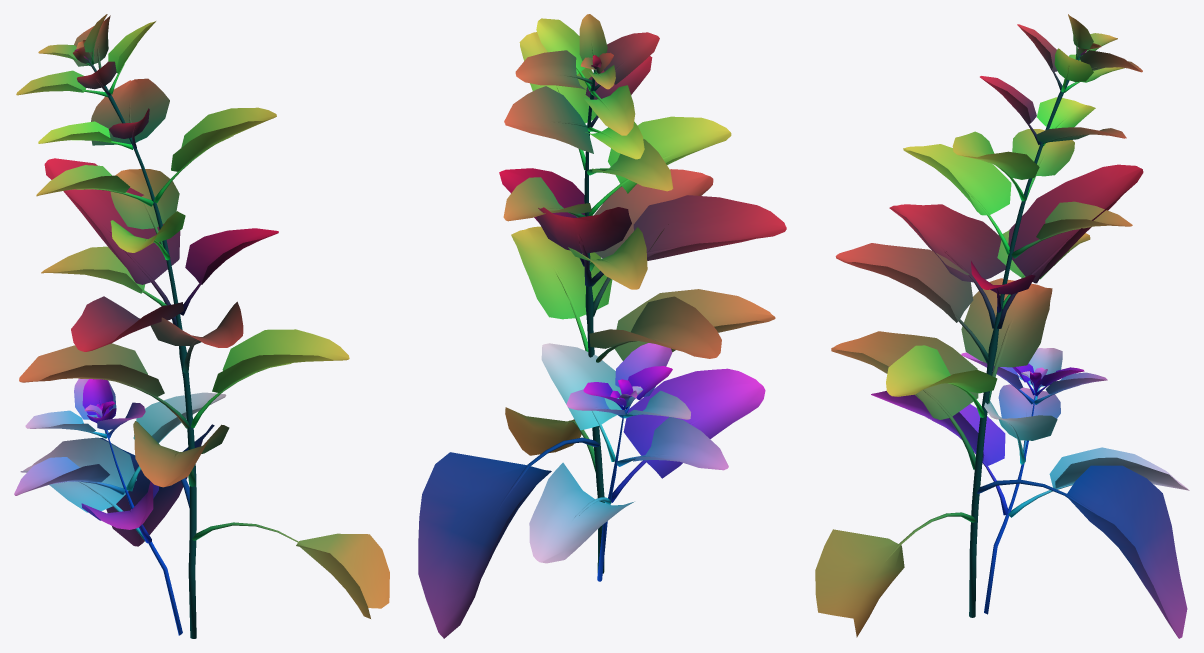
Rendered from Lemon_Balm_umslacdia_Mid_umslacdia_VarF_LOD0.fbx.
3 renders of one model, left to right at view 1: azimuth 30°, elevation 25°; view 2: azimuth 150°, elevation 25°; view 3: azimuth 270°, elevation 25°, orthographic. The views are drawn at different scales.
Parts seen in each view (by area): view 1: _p5z9_VarF_LOD1; view 2: _p5z9_VarF_LOD1; view 3: _p5z9_VarF_LOD1.
Boxes of the visible parts, x1=… form: _p5z9_VarF_LOD1: x1=14, y1=14, x2=389, y2=638; _p5z9_VarF_LOD1: x1=418, y1=14, x2=786, y2=638; _p5z9_VarF_LOD1: x1=815, y1=14, x2=1189, y2=638.
Bounding box in the file's own units: 36.22 × 70.03 × 40.61.
